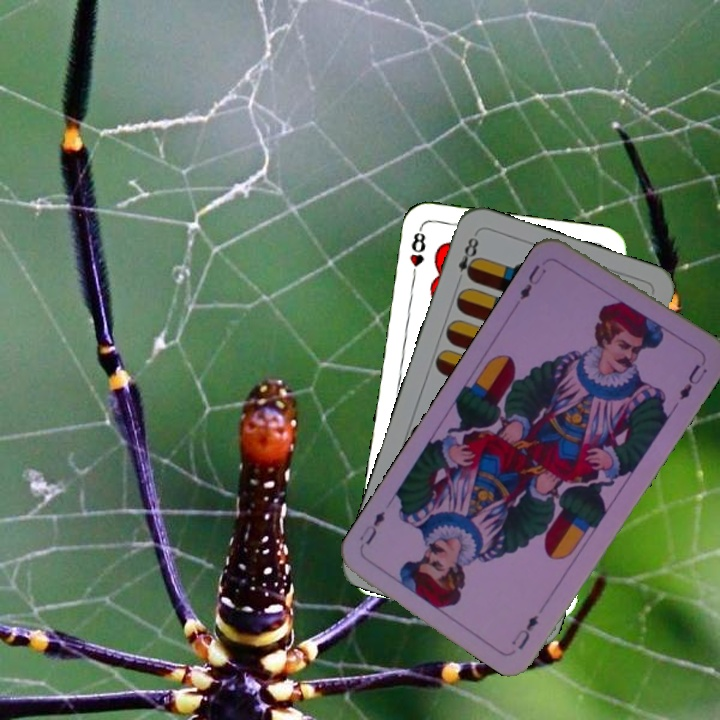E8: (452, 230, 482, 286)
EU: (515, 260, 550, 303), (507, 610, 541, 652)
H8: (406, 224, 428, 283)
